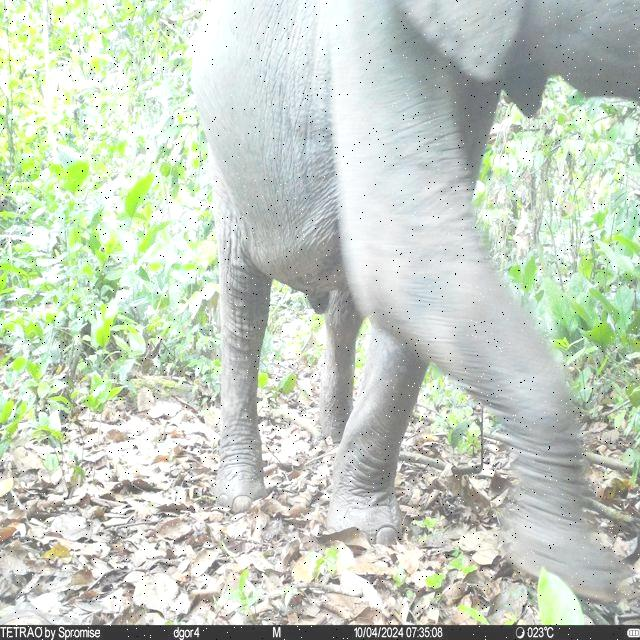elephant: (186, 1, 640, 610)
